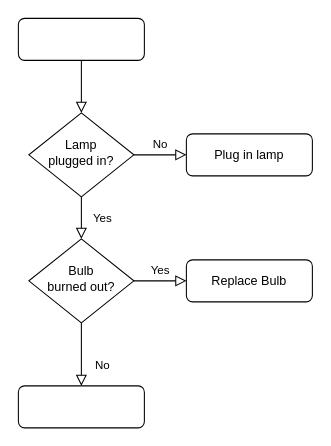
Some shapes in this 331 by 446 pixel diagram are drawn without their labels. The shapes that lost their labels are listed below. From the top down, each one's centre as x and y in pixels, then its label:
point 80,38: isLeapYear
point 80,406: Repair Lamp
